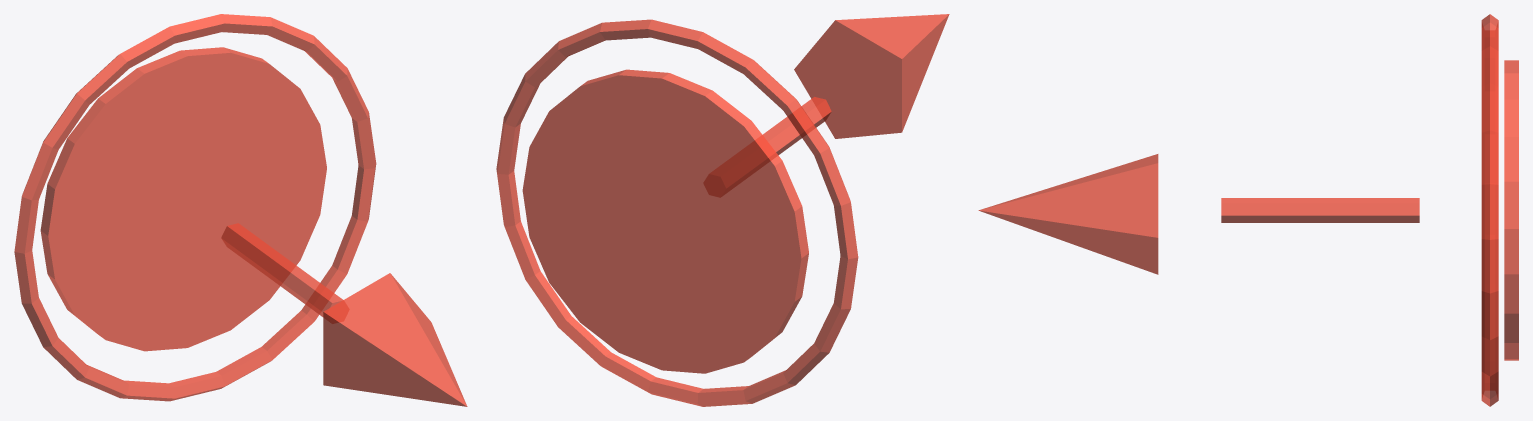
Rendered from minimap_pin_marker.glb.
3 renders of one model, left to right at view 1: azimuth 30°, elevation 25°; view 2: azimuth 150°, elevation 25°; view 3: azimuth 270°, elevation 25°, orthographic. The views are drawn at different scales.
Visible parts, largest first — view 1: marker_disc, marker_ring, arrow_head, arrow_stem; view 2: marker_disc, marker_ring, arrow_head, arrow_stem; view 3: arrow_head, marker_ring, arrow_stem, marker_disc.
Part boxes in pixels (x1,y1,x2,y2): marker_disc: (40, 47, 326, 351); marker_ring: (14, 14, 376, 401); arrow_head: (323, 273, 467, 406); arrow_stem: (221, 223, 343, 317); marker_disc: (522, 69, 808, 373); marker_ring: (496, 19, 858, 406); arrow_head: (794, 14, 949, 138); arrow_stem: (762, 97, 831, 155); arrow_head: (978, 154, 1158, 274); marker_ring: (1481, 14, 1498, 406); arrow_stem: (1221, 198, 1419, 222); marker_disc: (1504, 60, 1518, 360).
Bounding box in the file's own units: 1.09 × 1.08 × 1.5.
